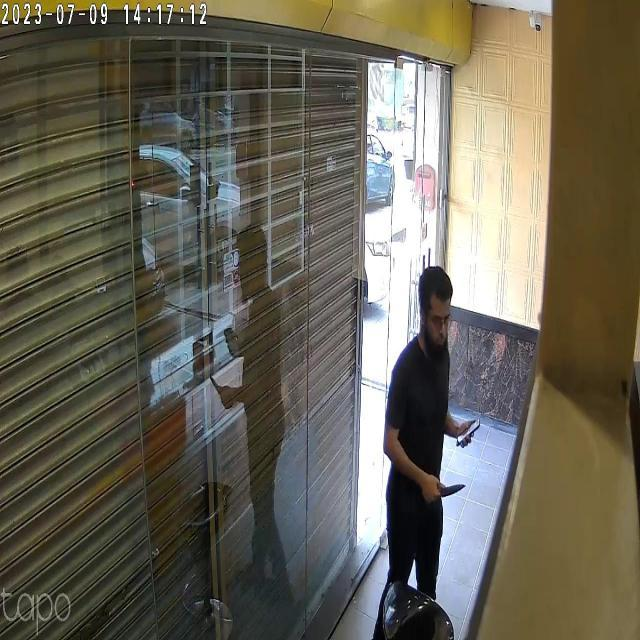Knife: (431, 474, 471, 508)
